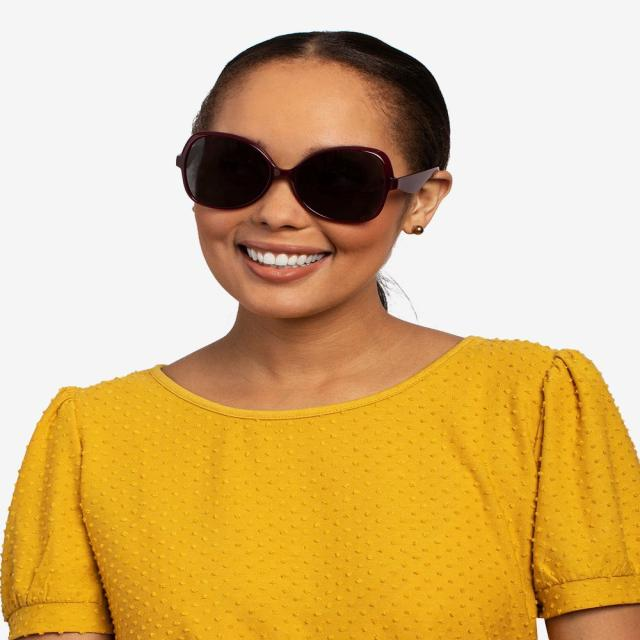2_gafas: (175, 129, 441, 224)
